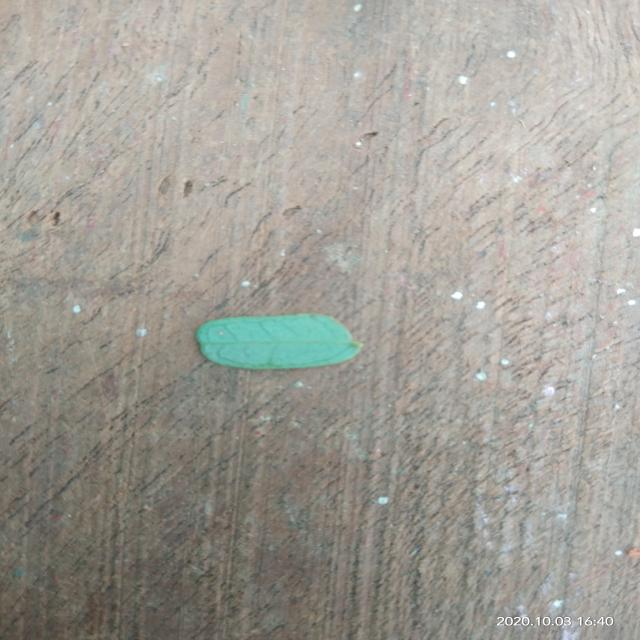tamarind: (197, 314, 362, 369)
